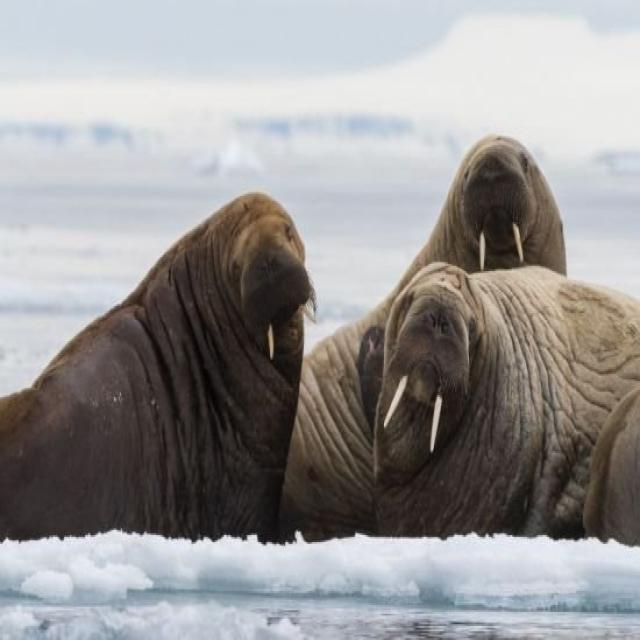walrus: (71, 124, 316, 526), (362, 257, 614, 520), (410, 84, 587, 296)
